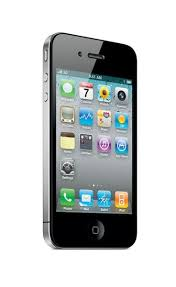iphone: (38, 28, 141, 254)
iphone4: (38, 27, 141, 253)
